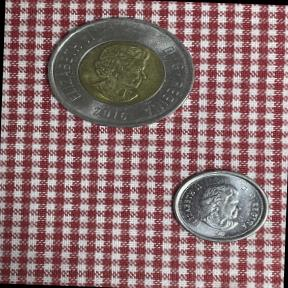coin: (37, 11, 204, 138), (163, 162, 274, 248)
